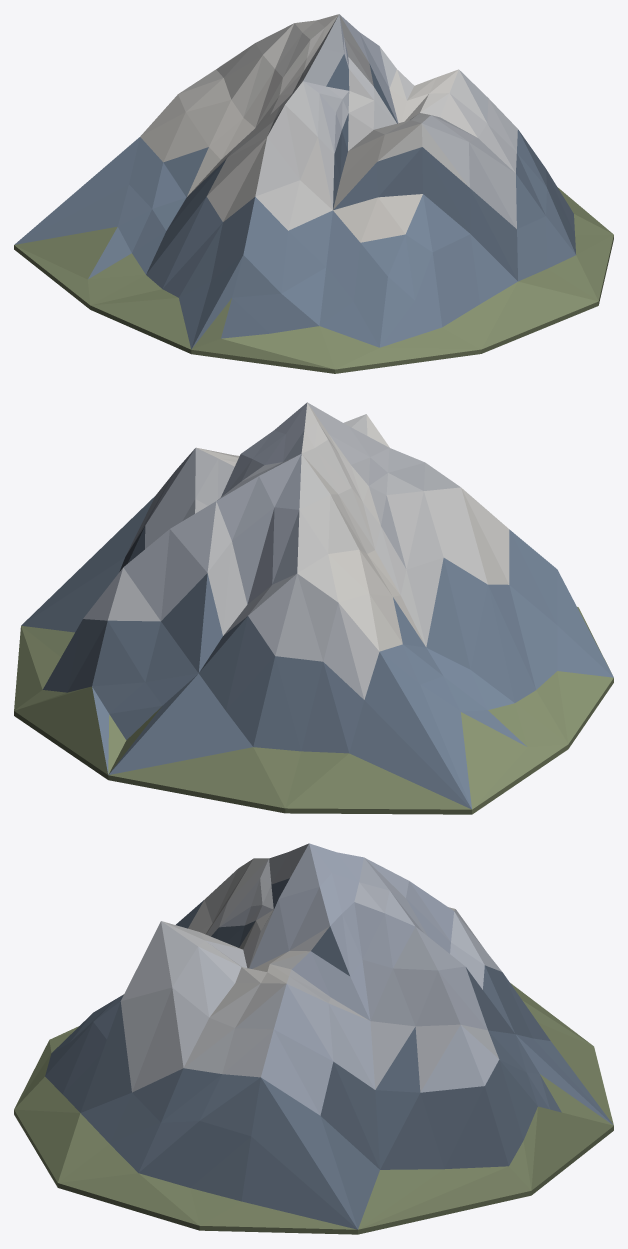
Rendered from massif_west_summit.glb.
The picture shows the model from 3 angles, top to bottom: view 1: azimuth 30°, elevation 25°; view 2: azimuth 150°, elevation 25°; view 3: azimuth 270°, elevation 25°; orthographic projection. The views are drawn at different scales.
Parts seen in each view (by area): view 1: massif_west_summit; view 2: massif_west_summit; view 3: massif_west_summit.
Part boxes in pixels (x1,y1,x2,y2): massif_west_summit: [14, 14, 613, 373]; massif_west_summit: [14, 402, 613, 814]; massif_west_summit: [14, 843, 613, 1234].
Size of the model in its own units: 818 by 402 by 819.
